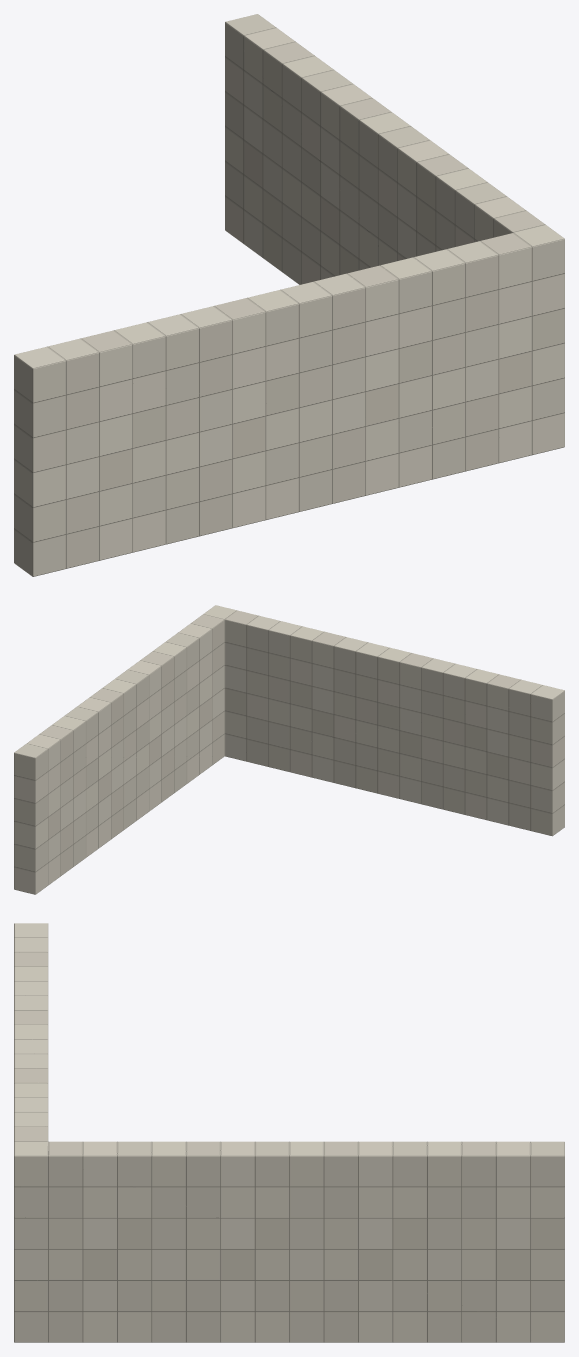
The model's file is MOD_23_PoolEdge_OuterCorner.glb.
3 renders of one model, top to bottom at view 1: azimuth 30°, elevation 25°; view 2: azimuth 150°, elevation 25°; view 3: azimuth 270°, elevation 25°, orthographic. The views are drawn at different scales.
Parts seen in each view (by area): view 1: MOD_23_PoolEdge_OuterCorner_Export; view 2: MOD_23_PoolEdge_OuterCorner_Export; view 3: MOD_23_PoolEdge_OuterCorner_Export.
Part boxes in pixels (bbox=[...]): MOD_23_PoolEdge_OuterCorner_Export: bbox=[14, 14, 564, 576]; MOD_23_PoolEdge_OuterCorner_Export: bbox=[14, 605, 564, 894]; MOD_23_PoolEdge_OuterCorner_Export: bbox=[14, 923, 564, 1342].
Bounding box in the file's own units: 4 × 1.5 × 4.
Materials: 1 (1 with a texture image).
